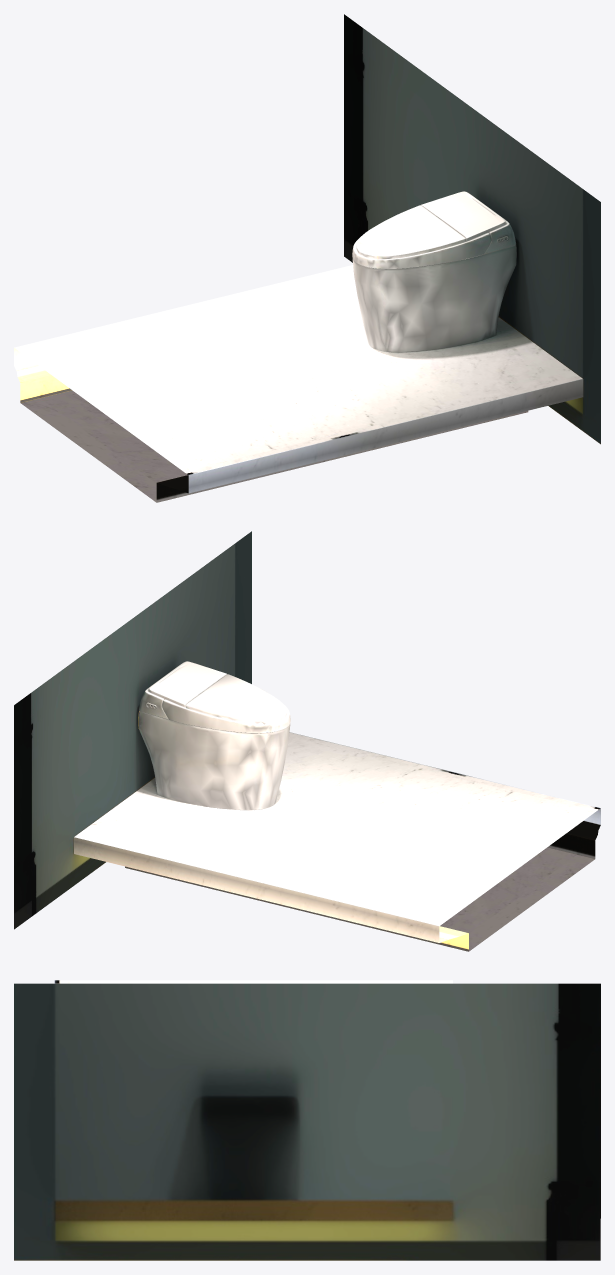
Rendered from Automate2_1.glb.
3 renders of one model, top to bottom at view 1: azimuth 30°, elevation 25°; view 2: azimuth 150°, elevation 25°; view 3: azimuth 270°, elevation 25°, orthographic. The views are drawn at different scales.
Parts seen in each view (by area): view 1: Automate2_1; view 2: Automate2_1; view 3: Automate2_1.
Boxes of the visible parts, bbox=[...] form: Automate2_1: bbox=[14, 14, 600, 502]; Automate2_1: bbox=[14, 531, 600, 951]; Automate2_1: bbox=[14, 980, 600, 1260].
Size of the model in its own units: 1.66 by 0.9437 by 1.81.
Materials: 1 (1 with a texture image).
